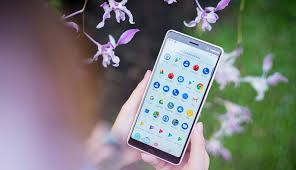nokia: (127, 27, 225, 165)
